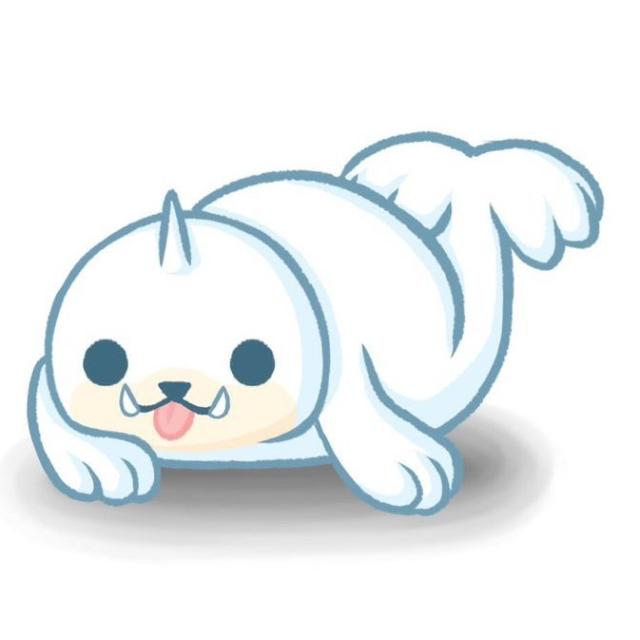Seel: (1, 140, 512, 512)
